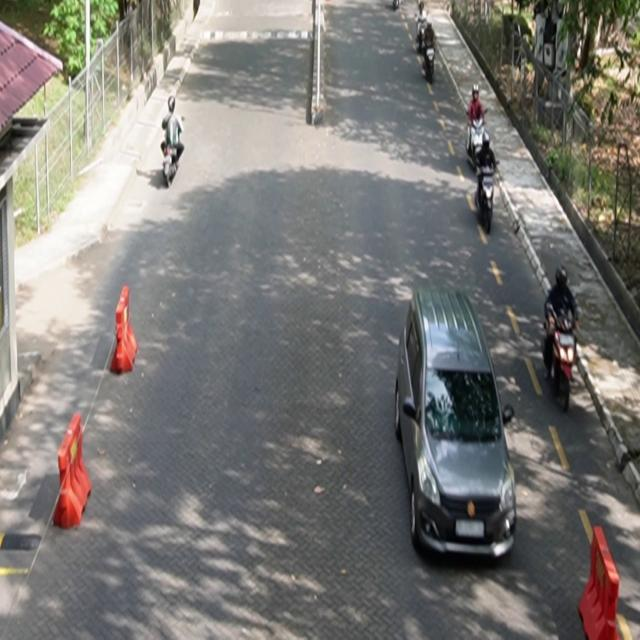car: (395, 287, 518, 562)
